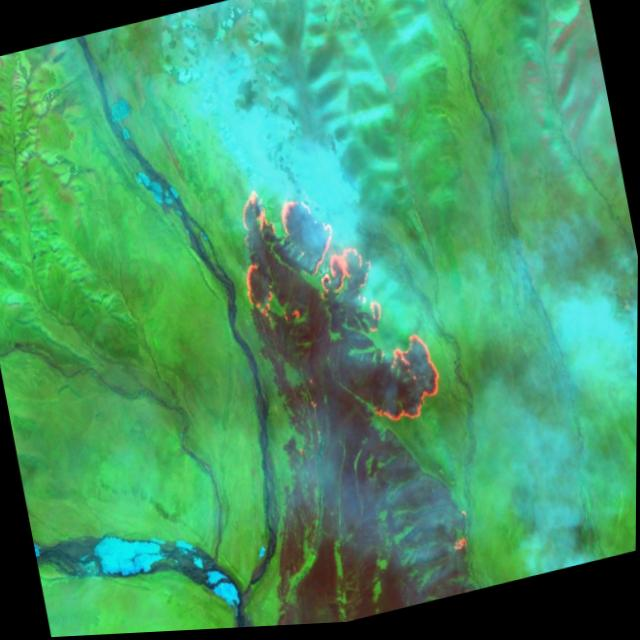fire: (224, 154, 451, 465), (447, 534, 474, 566)
